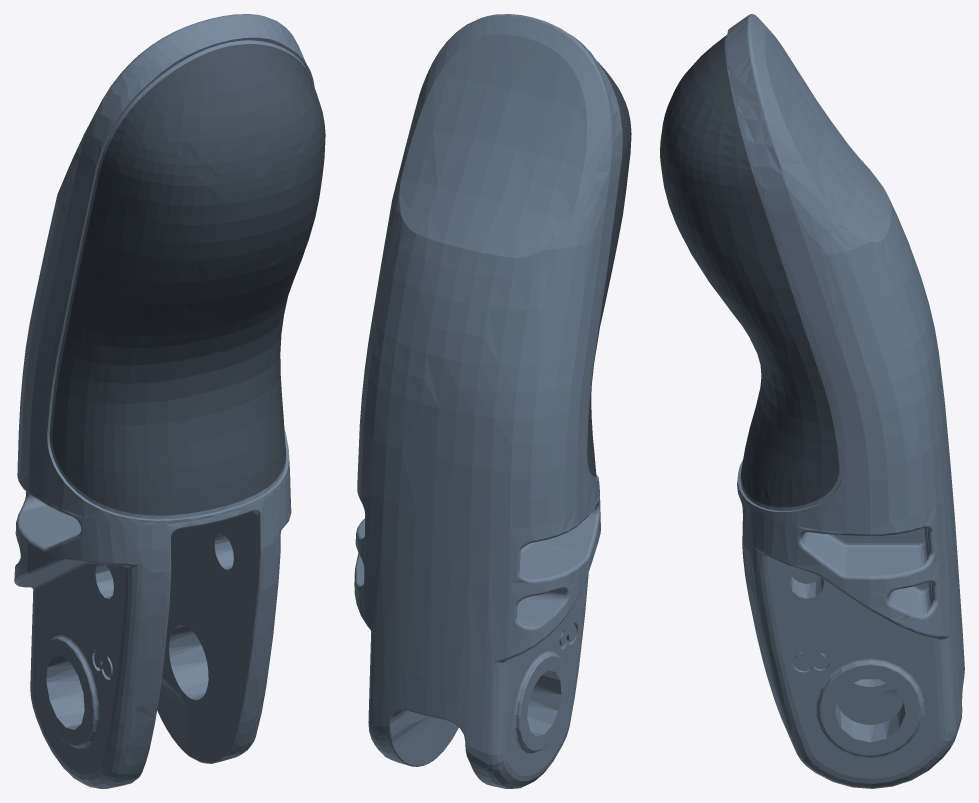
File: ring_distal.glb
3 views of the same model, side by side, from view 1: azimuth 30°, elevation 25°; view 2: azimuth 150°, elevation 25°; view 3: azimuth 270°, elevation 25° (orthographic). The views are drawn at different scales.
Parts seen in each view (by area): view 1: L_ring_dist; view 2: L_ring_dist; view 3: L_ring_dist.
Boxes of the visible parts, box(x1,y1,x2,y2) form: L_ring_dist: box(14, 14, 325, 788); L_ring_dist: box(354, 14, 631, 788); L_ring_dist: box(660, 14, 964, 788).
Size of the model in its own units: 0.0147 by 0.047 by 0.0177.
